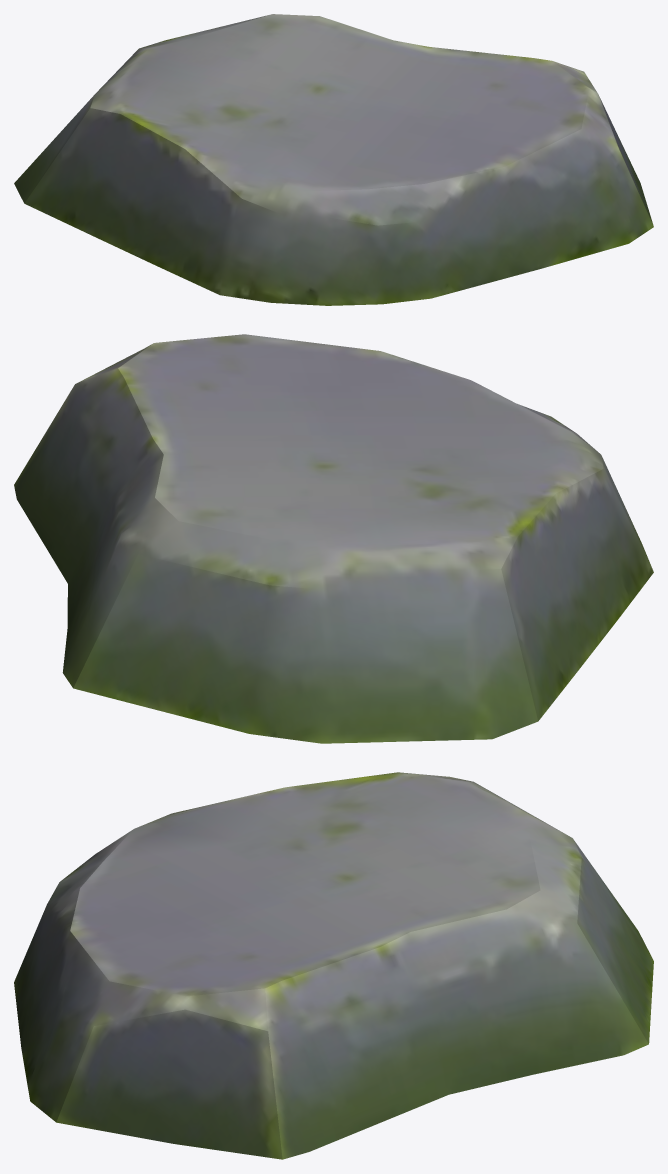
The model's file is pebble-round-kytj6jnxh2-transformed.glb.
The picture shows the model from 3 angles, top to bottom: view 1: azimuth 30°, elevation 25°; view 2: azimuth 150°, elevation 25°; view 3: azimuth 270°, elevation 25°; orthographic projection. The views are drawn at different scales.
Visible parts, largest first — view 1: Pebble_Round_2; view 2: Pebble_Round_2; view 3: Pebble_Round_2.
Boxes of the visible parts, x1,y1,x2,y2 form: Pebble_Round_2: (14,14,653,305); Pebble_Round_2: (14,334,653,743); Pebble_Round_2: (14,772,653,1159).
Size of the model in its own units: 0.4495 by 0.0942 by 0.4111.
Materials: 1 (1 with a texture image).
